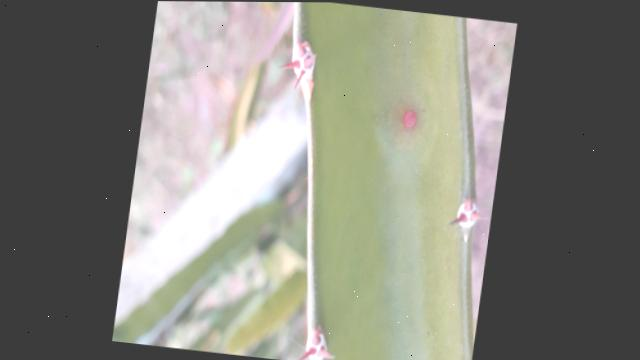stemcanker: (387, 102, 428, 140)
